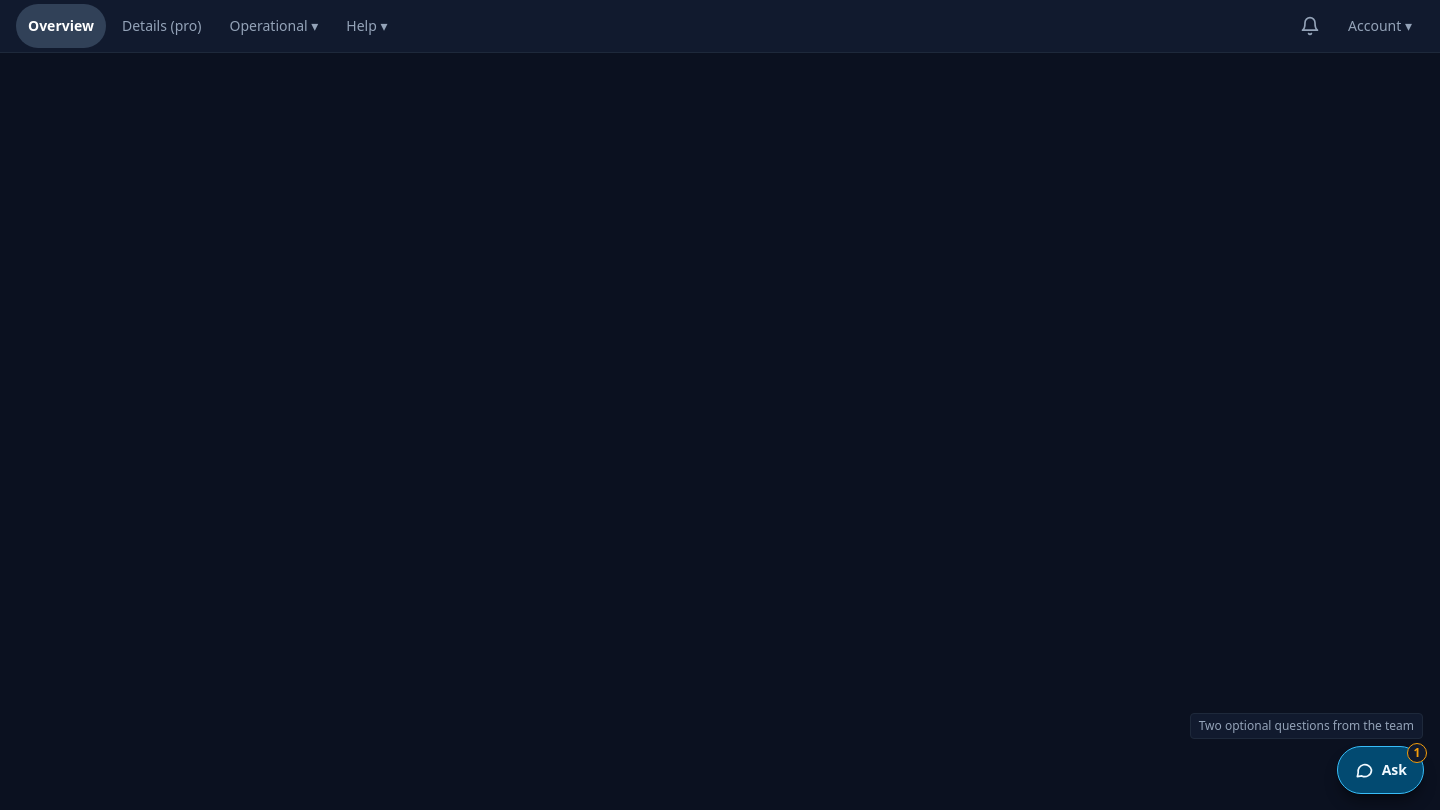
Test case: Scenario: Answer one question › only hardest to find: Send posts that code alone, then thanks; the page sends no answer event itself
Click the button with aria-label "Ask (two optional questions waiting)".
click(1380, 770)  # box [1337, 746, 1424, 794]
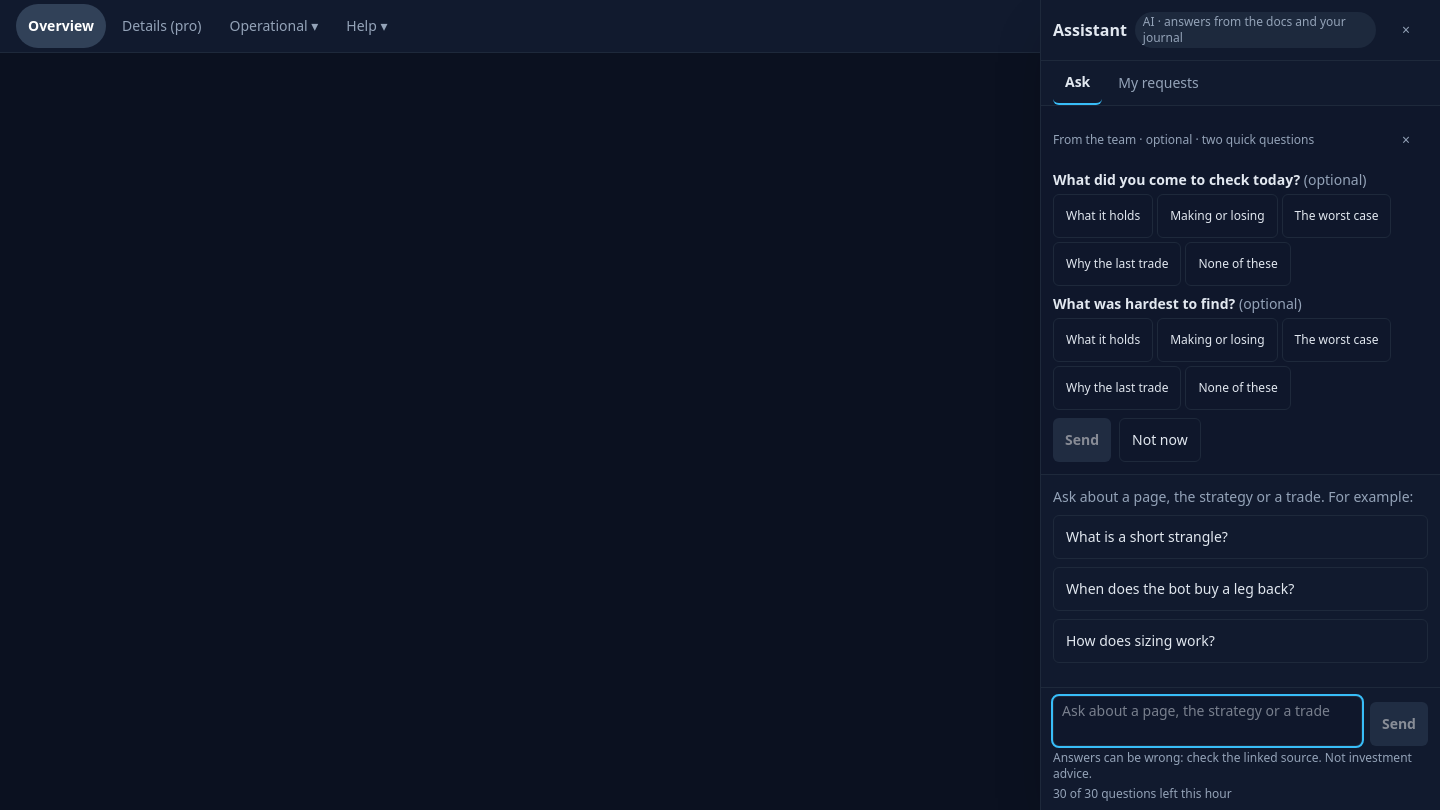
Click the button "The worst case" below "What was hardest to find?".
click(1336, 340)  # box [1282, 318, 1391, 362]
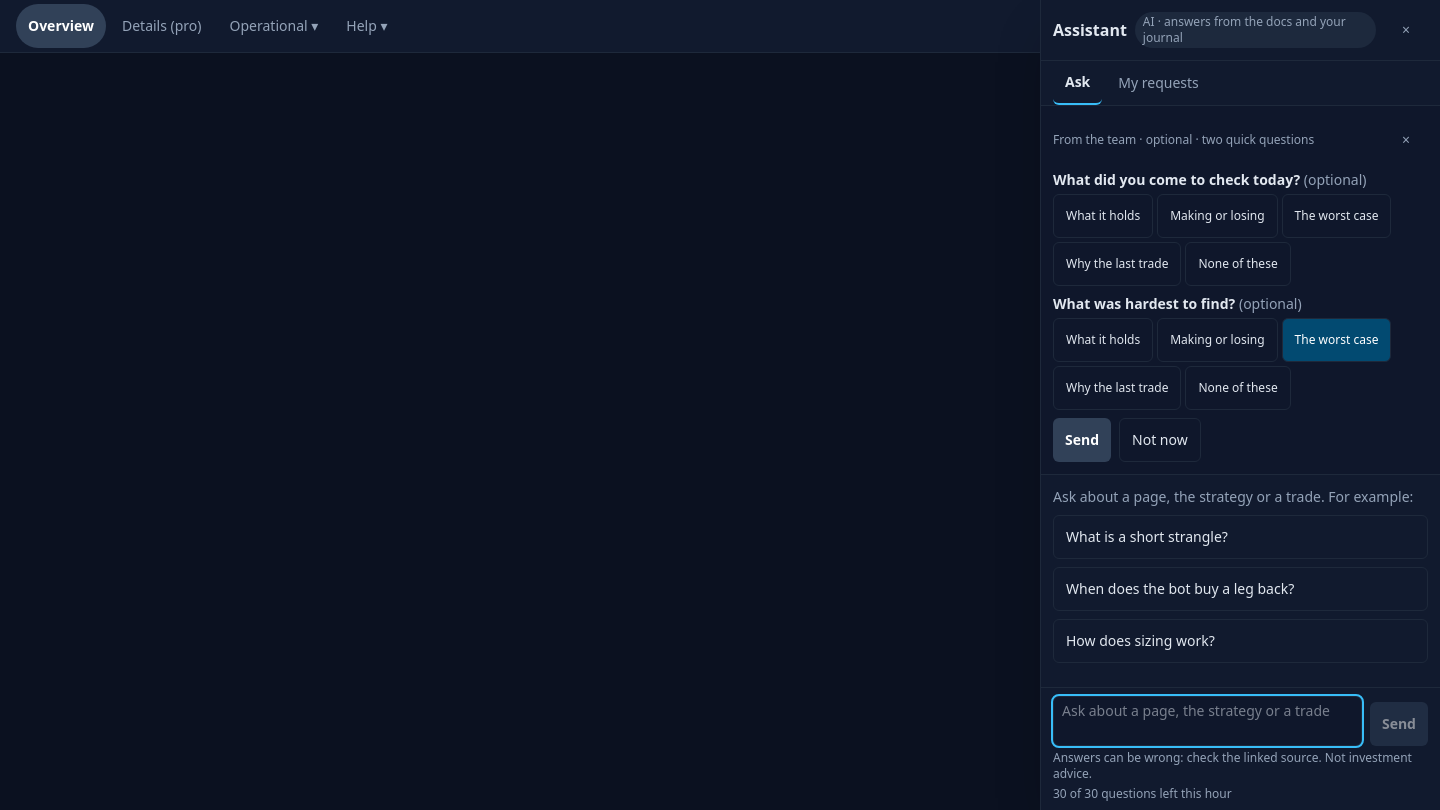
Click the button "Send" below "What was hardest to find?".
click(1082, 440)  # box [1053, 418, 1111, 462]
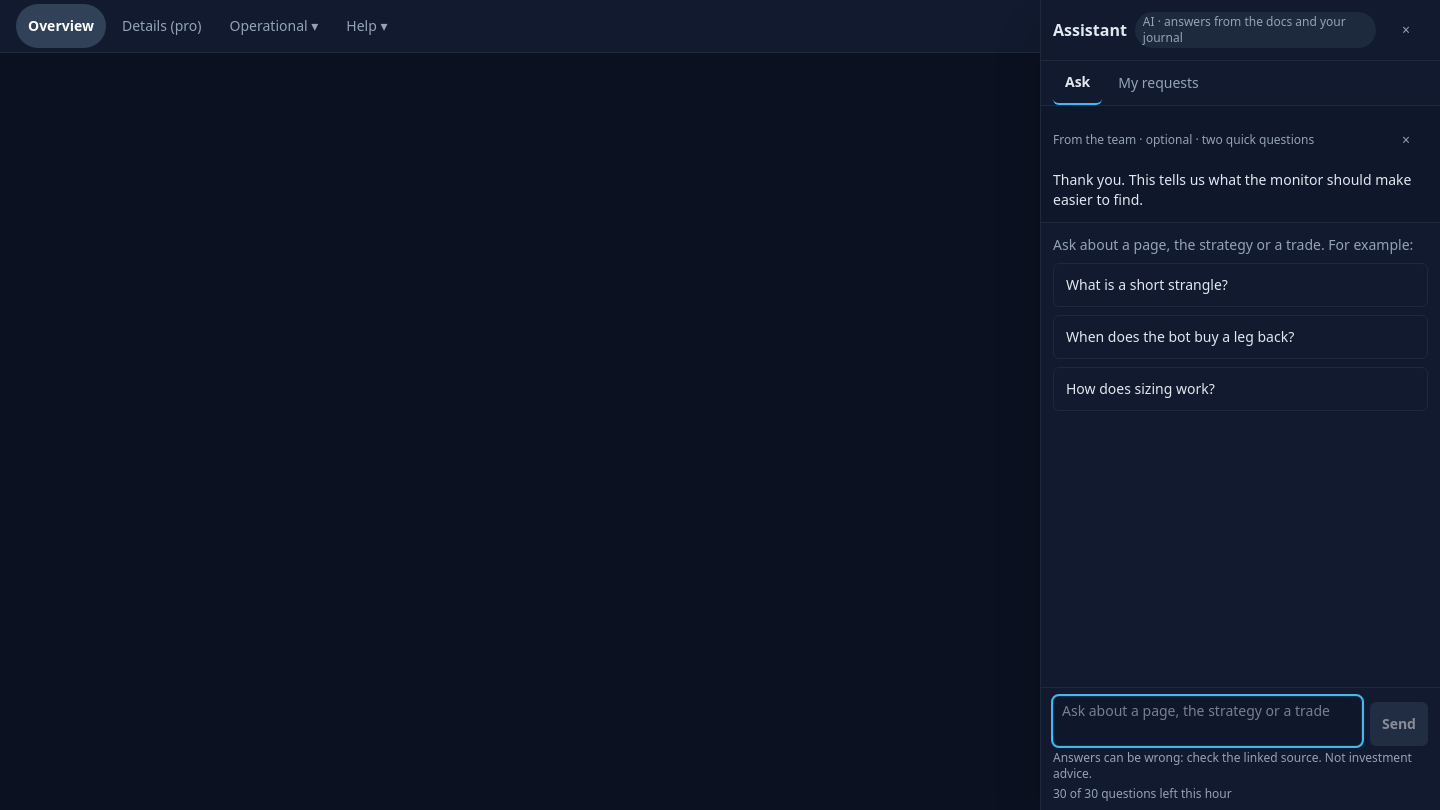
Check: the message reads "Thank you. This tells us what the monitor should make easier to find.", box [1053, 170, 1412, 209]
